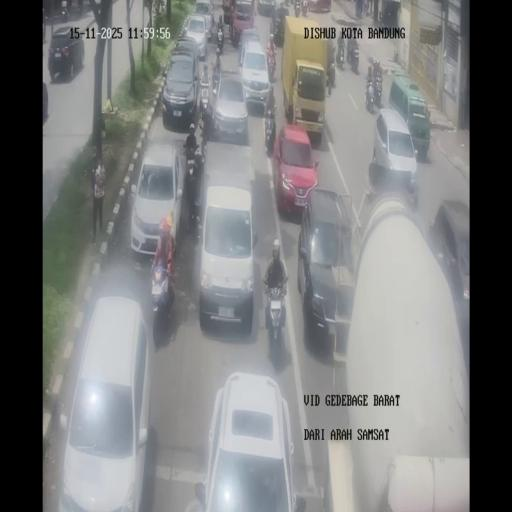3: (281, 14, 328, 143), (228, 0, 256, 46), (305, 0, 330, 12), (221, 0, 232, 18)
car: (58, 296, 152, 507), (189, 370, 303, 510), (198, 184, 257, 332), (298, 190, 352, 346), (130, 141, 186, 258), (428, 202, 470, 355), (272, 123, 318, 219), (371, 108, 418, 199), (206, 69, 250, 145), (161, 50, 201, 131), (238, 35, 270, 112), (48, 26, 85, 82), (184, 13, 210, 58), (258, 0, 276, 16)
truck: (151, 262, 175, 339), (264, 281, 288, 350), (198, 66, 210, 120), (264, 102, 276, 154), (184, 148, 199, 184), (271, 13, 285, 46), (199, 116, 210, 158), (346, 40, 360, 72), (373, 68, 383, 106), (211, 58, 221, 95), (365, 80, 375, 112), (266, 50, 276, 82), (327, 60, 336, 92), (336, 41, 345, 69), (277, 0, 292, 16), (216, 26, 224, 54), (60, 0, 68, 20), (42, 15, 46, 43), (294, 0, 300, 18), (301, 0, 308, 15), (362, 0, 368, 17), (378, 9, 384, 23)
